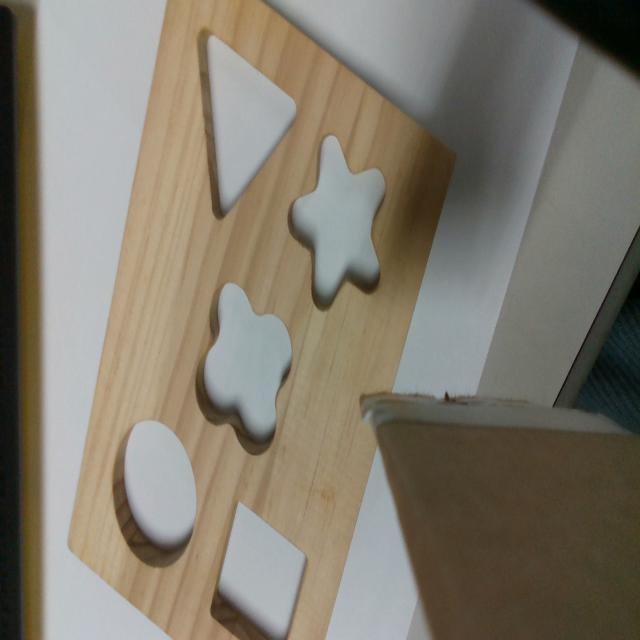circle: (114, 421, 197, 566)
flower: (195, 284, 292, 455)
square: (207, 499, 312, 638)
star: (286, 132, 386, 310)
triangle: (196, 24, 298, 226)
